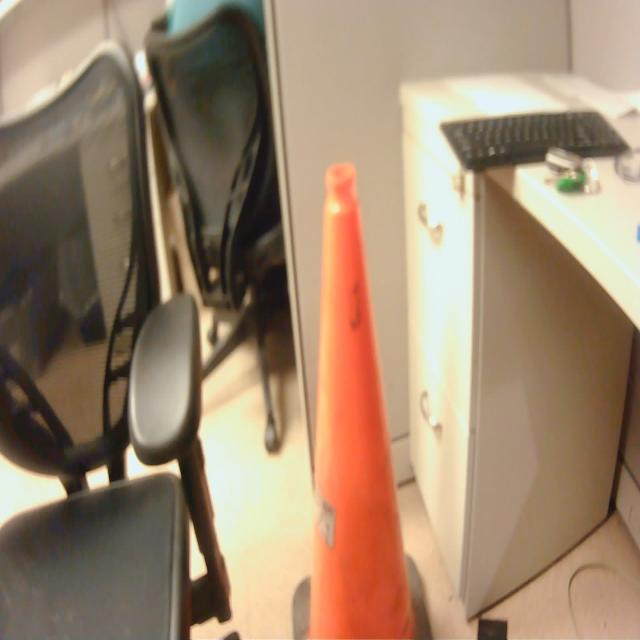traffic cone: (290, 158, 439, 640)
